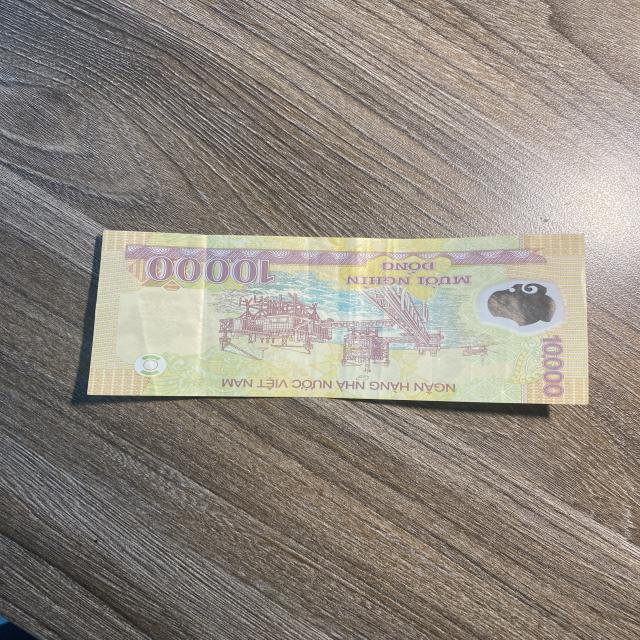10 000 VND: (80, 224, 594, 410)
